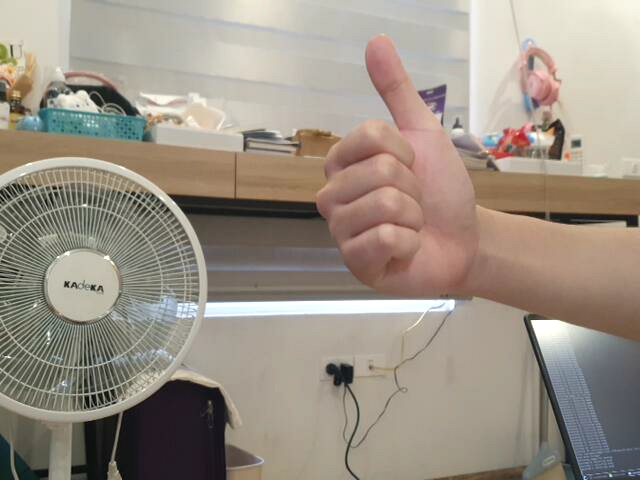ThumbsUp: (310, 31, 488, 303)
